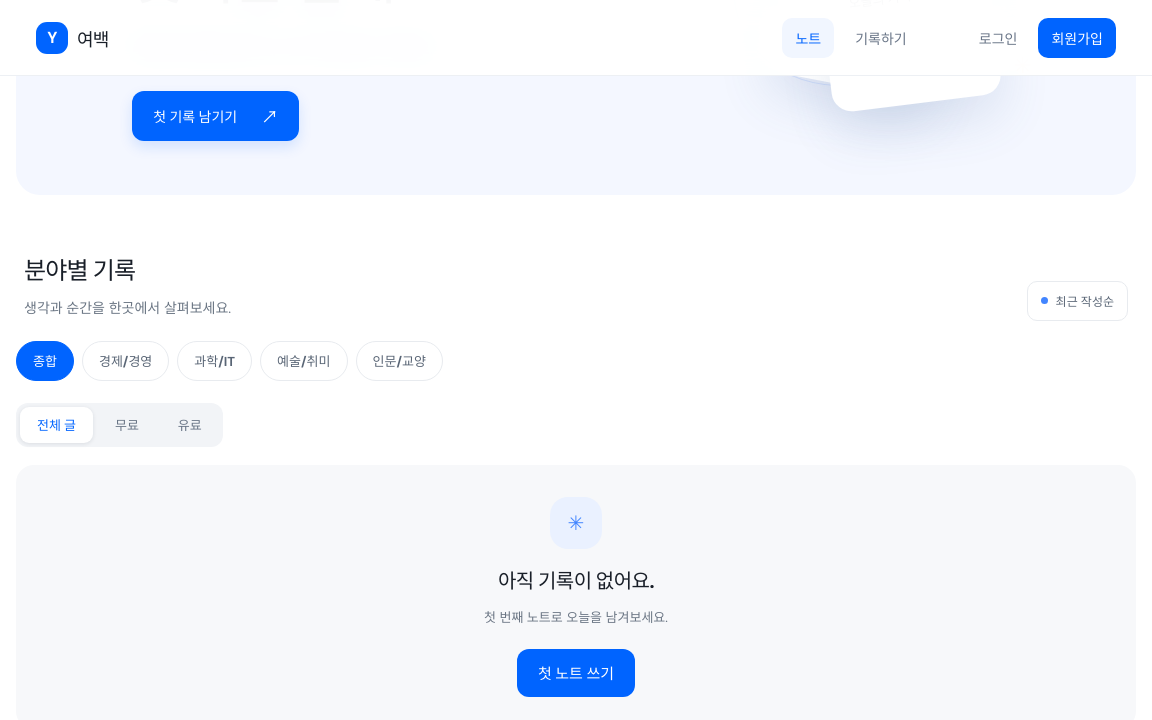
it: 여백 페이지 흐름 › 분야 탭을 바꾸면 해당 분야 첫 페이지를 불러온다
The width and height of the screenshot is (1152, 720).
(page scrolled)
Click the tab "과학/IT" at (215, 361), box [177, 341, 252, 381]
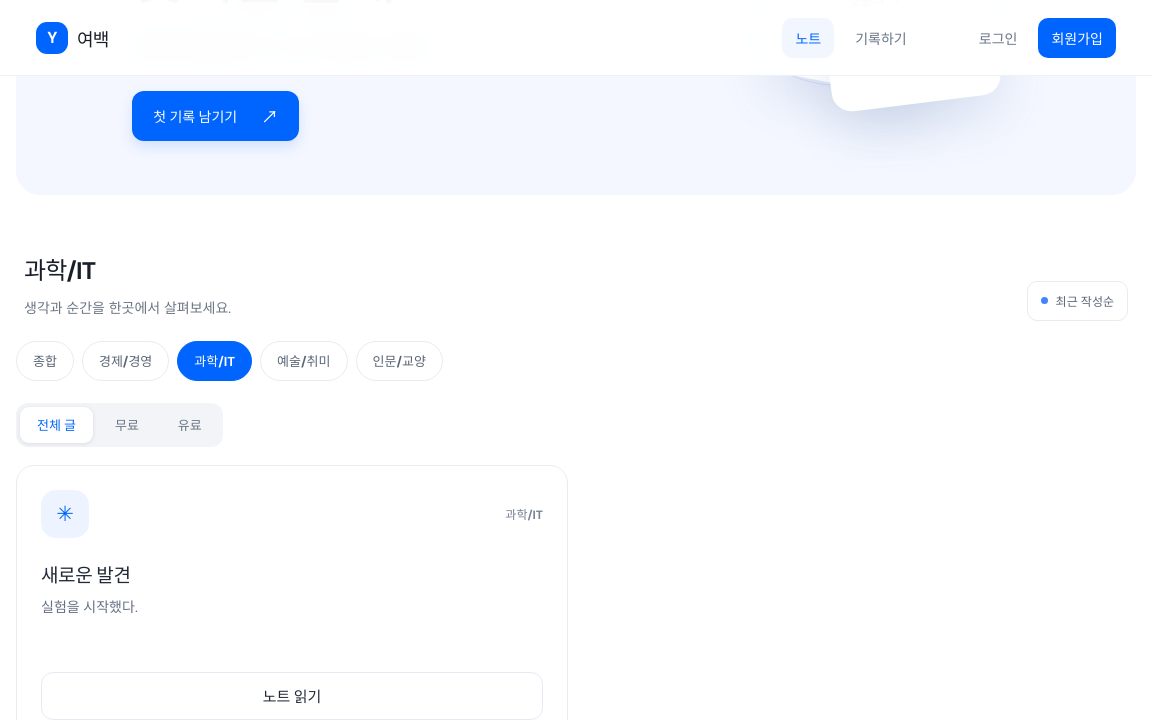
Expected: the heading "과학/IT" is shown, [24, 254, 95, 286]
Expected: the text "새로운 발견" is shown, [41, 560, 130, 588]
